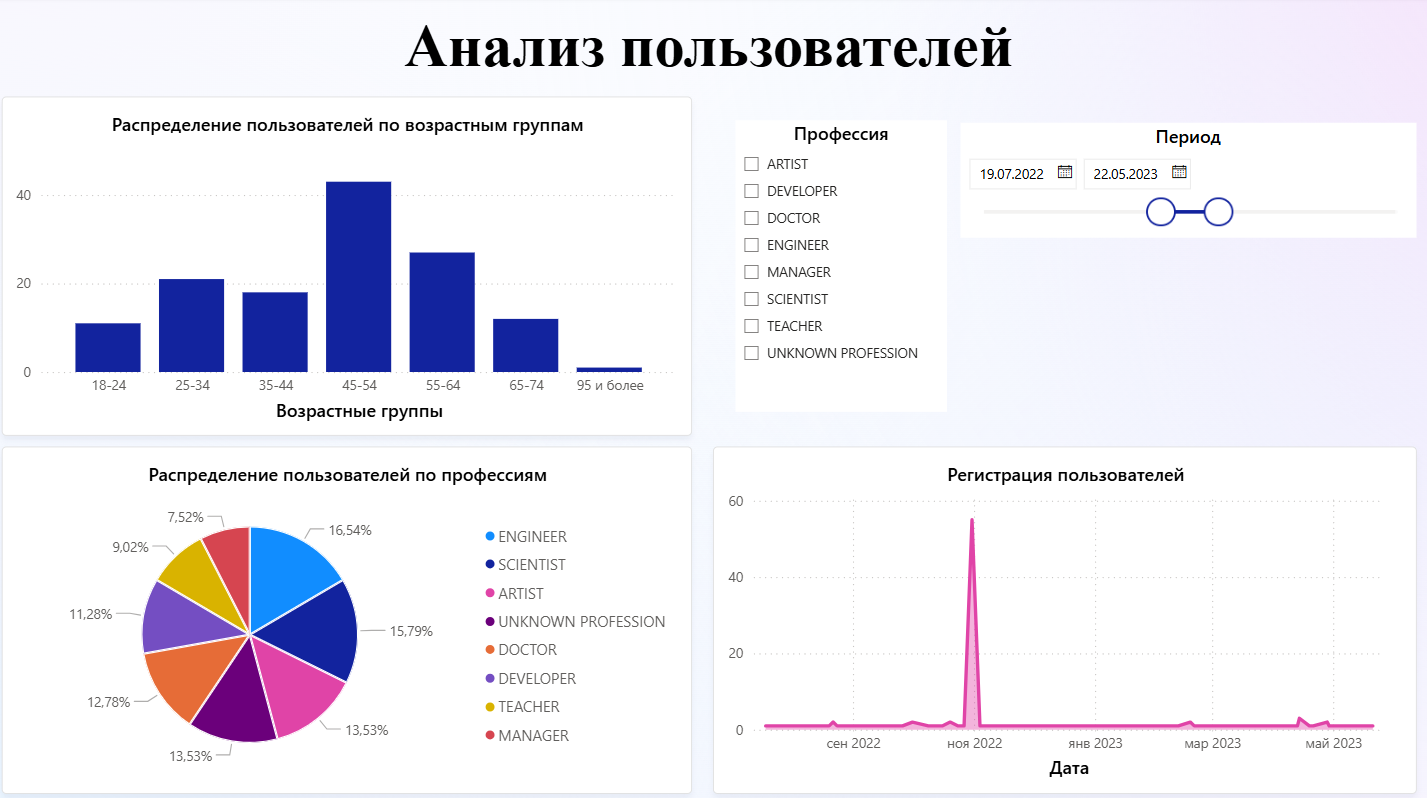

Layout of this report page (visuals, bound fields, positions):
{"tool":"powerbi","page":{"name":"Демография пользователей","canvas":[1280,720],"ordinal":0},"visuals":[{"type":"textbox","box":[8.2,11,1257,75.5],"z":0},{"type":"columnChart","title":"Распределение пользователей по возрастным группам","fields":{"Y":["_Меры.TotalUsers"],"Category":["users.DistributionAge"]},"box":[8.2,90.6,613.4,301.9],"z":1000},{"type":"pieChart","title":"Распределение пользователей по профессиям","fields":{"Category":["users.profession"],"Y":["_Меры.TotalUsers"]},"box":[8.2,402.1,613.4,308.7],"z":2000},{"type":"slicer","title":"Профессия","fields":{"Values":["users.profession"]},"box":[660,112.5,188,259.3],"z":3000},{"type":"areaChart","title":"Регистрация пользователей","fields":{"Y":["_Меры.TotalUsers"],"Category":["Calendar.Date"]},"box":[639.5,402.1,625.7,308.7],"z":4000},{"type":"slicer","title":"Период","fields":{"Values":["Calendar.Date"]},"box":[860.4,113.9,404.8,101.5],"z":5000}]}

Visuals, with their boxes in screenshot pixels (x1, y1, x2, y2), scaled from the page's 1280x720 canvas onto the 1427x798 screenshot:
textbox: bbox=[9, 12, 1411, 96]
"Распределение пользователей по возрастным группам" columnChart: bbox=[9, 100, 693, 435]
"Распределение пользователей по профессиям" pieChart: bbox=[9, 446, 693, 788]
"Профессия" slicer: bbox=[736, 125, 945, 412]
"Регистрация пользователей" areaChart: bbox=[713, 446, 1411, 788]
"Период" slicer: bbox=[959, 126, 1411, 239]
